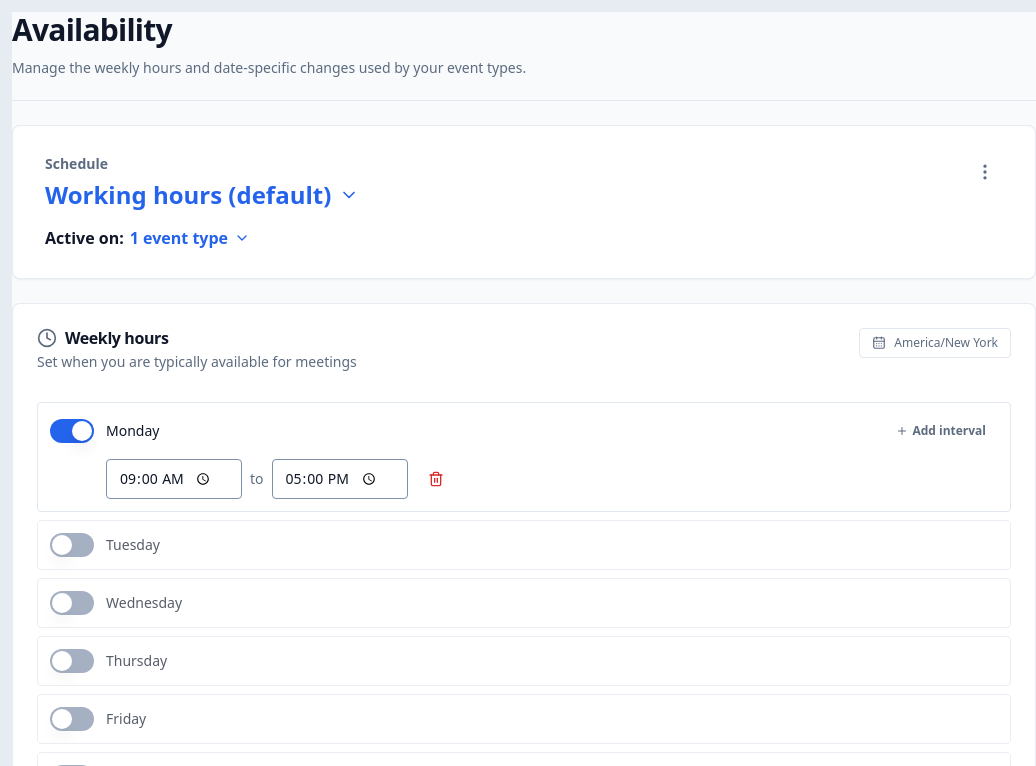
Test: AvailabilityClient › lists schedules and exposes the create action from the header dropdown
Press the mouse on the button with aria-label "Active schedule" at {"x": 202, "y": 195}, box [45, 180, 359, 210]
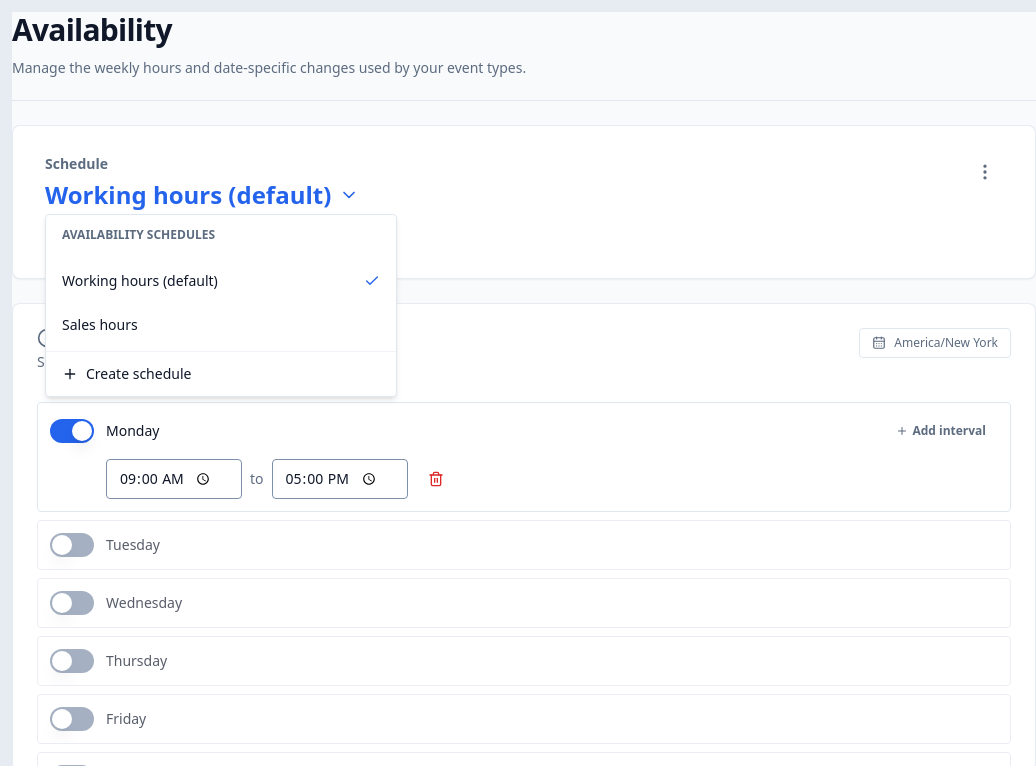
expect the menu item "Working hours (default)" is shown: met, box [62, 271, 380, 290]
expect the menu item "Sales hours" is shown: met, box [62, 315, 138, 334]
expect the menu item "Create schedule" is shown: met, box [62, 364, 191, 383]
